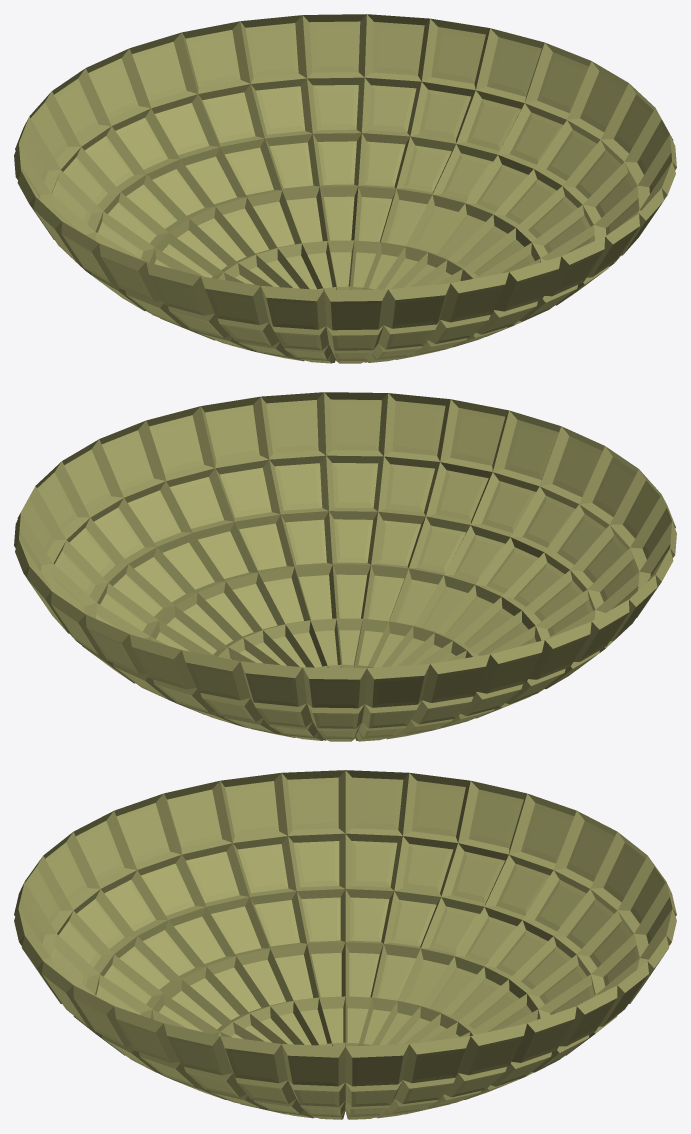
File: Bedroom Light.glb
3 views of the same model, one above another, from view 1: azimuth 30°, elevation 25°; view 2: azimuth 150°, elevation 25°; view 3: azimuth 270°, elevation 25° (orthographic).
Visible parts, largest first — view 1: bed light; view 2: bed light; view 3: bed light.
Boxes of the visible parts, <box> form: bed light: <box>14,14,676,363</box>; bed light: <box>14,392,676,741</box>; bed light: <box>14,770,676,1119</box>.
Size of the model in its own units: 0.4167 by 0.1231 by 0.4167.
